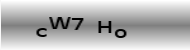7: (71, 17, 84, 30)
H: (97, 20, 112, 34)
W: (48, 15, 71, 31)
c: (34, 27, 48, 38)
o: (114, 28, 127, 39)
